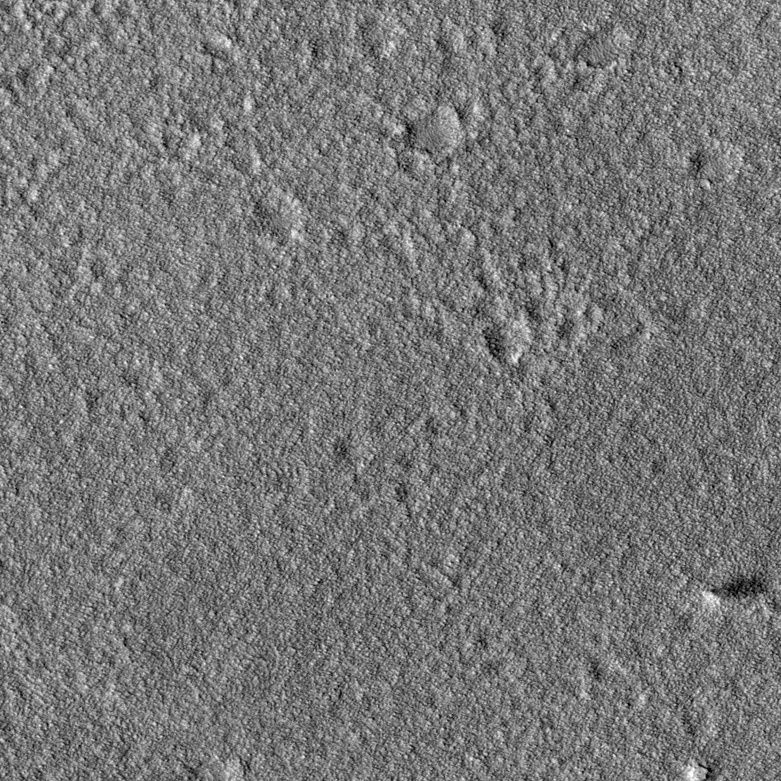dust_devil: (700, 571, 770, 612)
